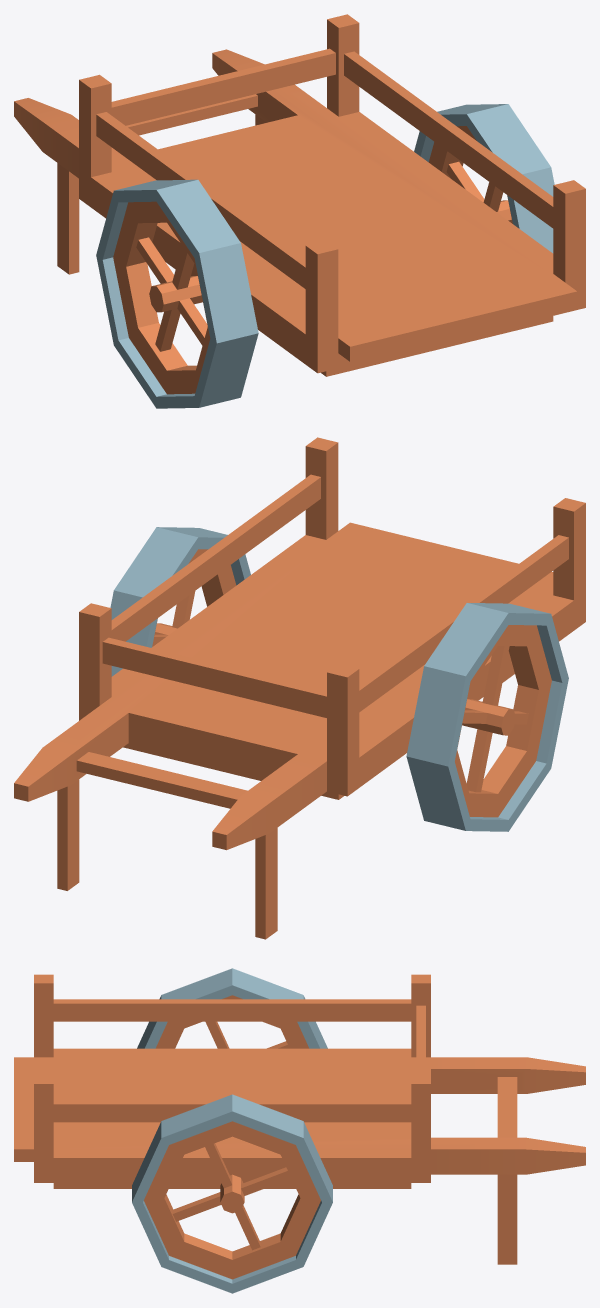
The model's file is cart.obj.
The picture shows the model from 3 angles, top to bottom: view 1: azimuth 30°, elevation 25°; view 2: azimuth 150°, elevation 25°; view 3: azimuth 270°, elevation 25°; orthographic projection. The views are drawn at different scales.
Visible parts, largest first — view 1: cart, wheel; view 2: cart, wheel; view 3: cart, wheel.
Boxes of the visible parts, bbox=[...] form: cart: bbox=[14, 14, 585, 376]; wheel: bbox=[96, 104, 554, 408]; cart: bbox=[14, 437, 585, 939]; wheel: bbox=[110, 527, 568, 831]; cart: bbox=[14, 974, 585, 1264]; wheel: bbox=[132, 968, 332, 1293].
Size of the model in its own units: 0.8525 by 0.5355 by 1.44.
